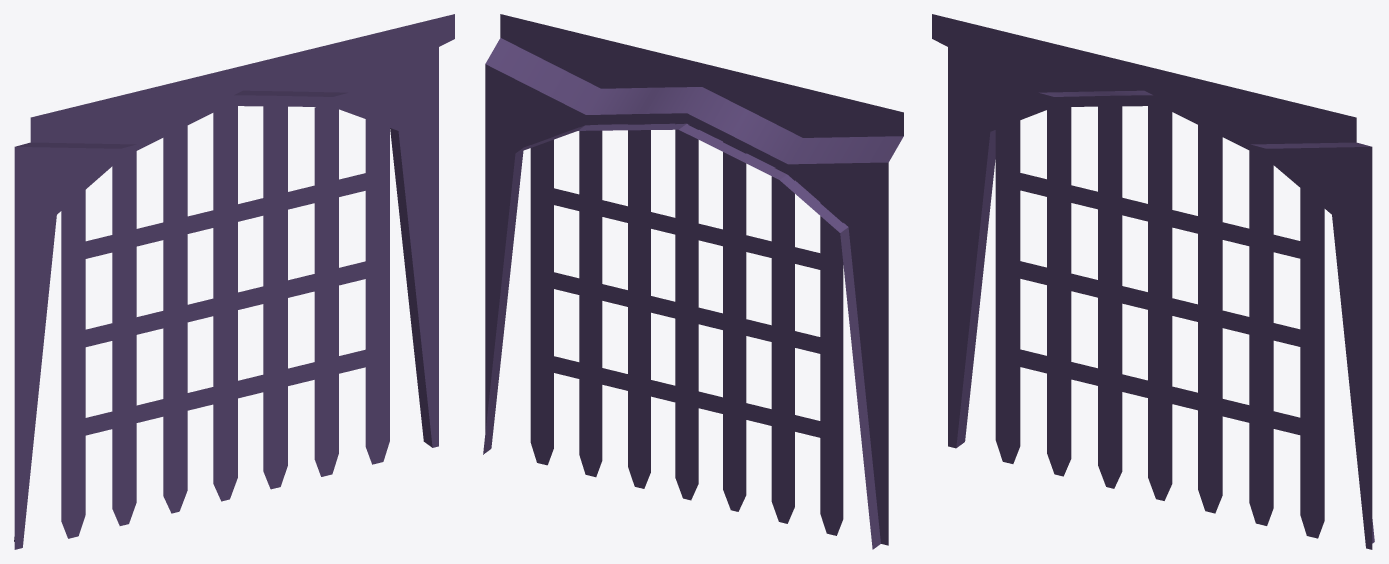
File: grate wall.fbx
3 views of the same model, side by side, from view 1: azimuth 30°, elevation 25°; view 2: azimuth 150°, elevation 25°; view 3: azimuth 330°, elevation 25° (orthographic). The views are drawn at different scales.
Parts seen in each view (by area): view 1: grate_wall; view 2: grate_wall; view 3: grate_wall.
Boxes of the visible parts, x1=… form: grate_wall: x1=14, y1=14, x2=454, y2=549; grate_wall: x1=483, y1=14, x2=903, y2=549; grate_wall: x1=932, y1=14, x2=1374, y2=549.
Size of the model in its own units: 5 by 5.03 by 0.5051.
